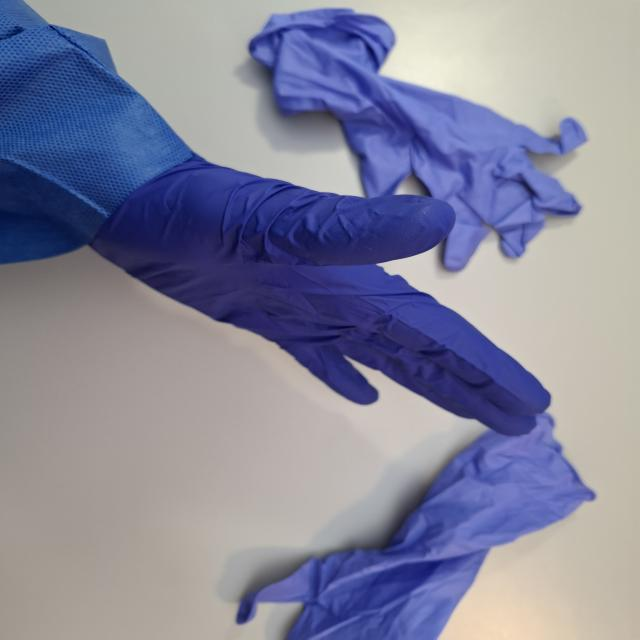glove_on: (77, 150, 555, 438)
